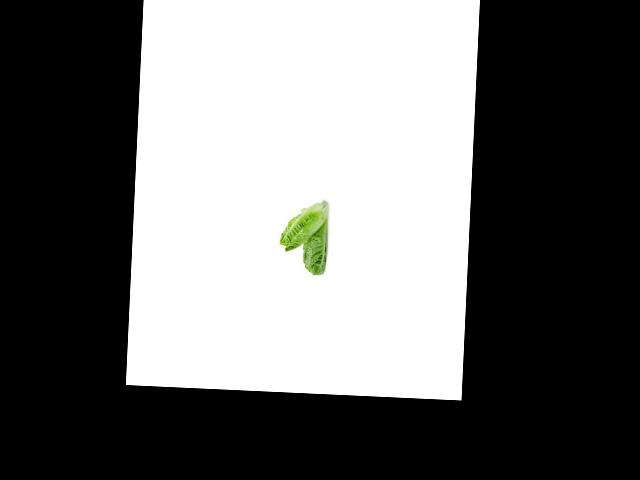lettuce: (300, 215, 333, 280)
